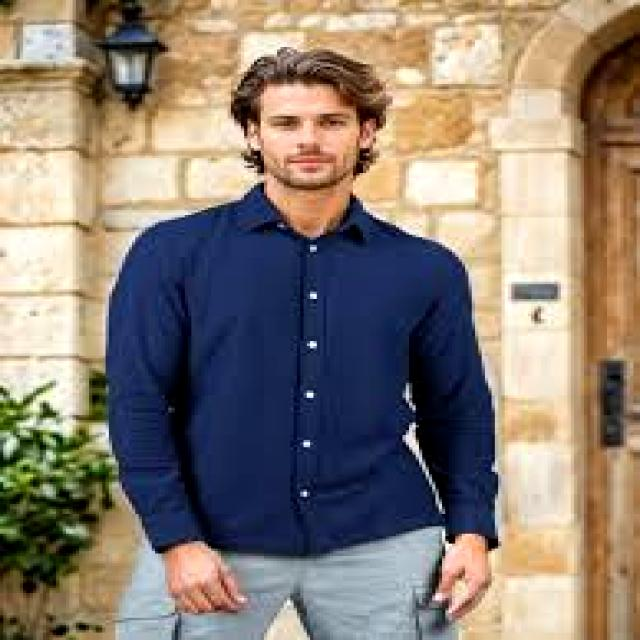face: (238, 51, 380, 188)
lower-wear: (123, 505, 464, 640)
top-wear: (110, 191, 504, 555)
